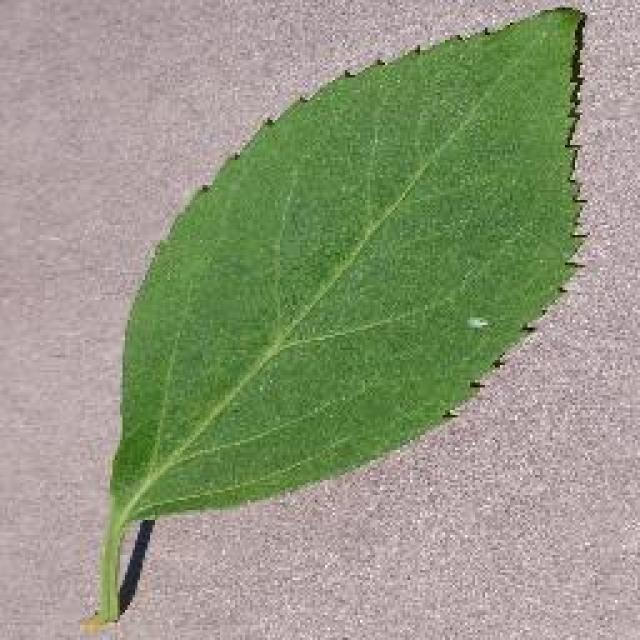Cherry___healthy: (146, 14, 556, 500)
